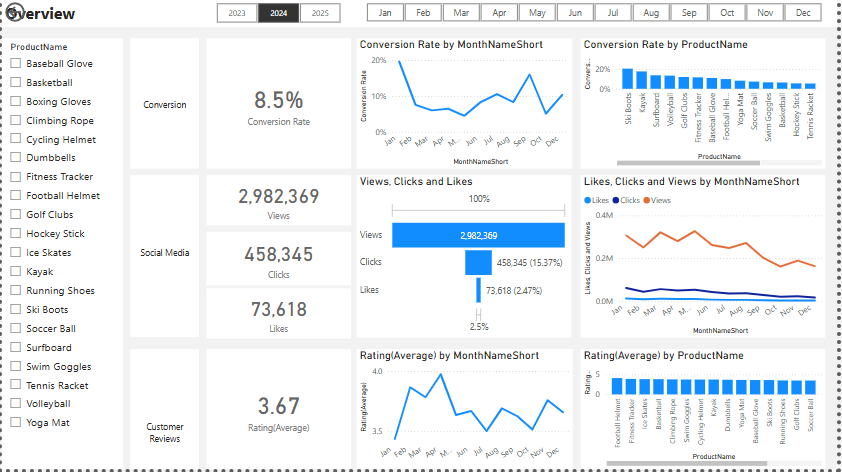

Layout of this report page (visuals, bound fields, positions):
{"tool":"powerbi","page":{"name":"OverView","canvas":[1280,720],"ordinal":0},"visuals":[{"type":"textbox","box":[0,0,1280.4,42.9],"z":0},{"type":"slicer","fields":{"Values":["dim_products.ProductName"]},"box":[0,58.9,185.7,660.7],"z":1000},{"type":"textbox","box":[198.2,58.9,105.4,200],"z":2000},{"type":"textbox","box":[198.2,271.4,105.4,248.2],"z":3000},{"type":"textbox","box":[198.2,535.7,105.4,183.9],"z":4000},{"type":"lineChart","fields":{"Y":["_Calculations.Conversion Rate"],"Category":["Calendar.MonthNameShort"]},"box":[542.9,58.9,330.4,200],"z":5000},{"type":"card","fields":{"Values":["_Calculations.Views"]},"box":[312.5,271.4,221.4,76.8],"z":6000},{"type":"card","fields":{"Values":["_Calculations.Rating(Average)"]},"box":[312.5,535.7,221.4,183.9],"z":7000},{"type":"card","fields":{"Values":["_Calculations.Clicks"]},"box":[312.5,355.4,221.4,82.1],"z":8000},{"type":"card","fields":{"Values":["_Calculations.Likes"]},"box":[312.5,442.9,221.4,76.8],"z":9000},{"type":"slicer","fields":{"Values":["Calendar.Year"]},"box":[303.6,0,239.3,42.9],"z":10000},{"type":"slicer","fields":{"Values":["Calendar.MonthNameShort"]},"box":[533.9,0,746.4,39.3],"z":11000},{"type":"actionButton","box":[0,0,100,40],"z":12000},{"type":"card","fields":{"Values":["_Calculations.Conversion Rate"]},"box":[312.5,58.9,221.4,200],"z":13000},{"type":"clusteredColumnChart","fields":{"Category":["dim_products.ProductName"],"Y":["_Calculations.Conversion Rate"]},"box":[885.7,58.9,375,200],"z":14000},{"type":"lineChart","fields":{"Category":["Calendar.MonthNameShort"],"Y":["_Calculations.Likes","_Calculations.Clicks","_Calculations.Views"]},"box":[885.5,270.9,374.5,249.1],"z":15000},{"type":"funnel","fields":{"Y":["_Calculations.Views","_Calculations.Clicks","_Calculations.Likes"]},"box":[543.6,270.9,329.1,249.1],"z":16000},{"type":"lineChart","fields":{"Category":["Calendar.MonthNameShort"],"Y":["_Calculations.Rating(Average)"]},"box":[541.8,536.4,330.9,200],"z":17000},{"type":"clusteredColumnChart","fields":{"Category":["dim_products.ProductName"],"Y":["_Calculations.Rating(Average)"]},"box":[885.5,536.4,374.5,183.6],"z":18000}]}

Visuals, with their boxes on the page's 1280x720 design canvas (x1, y1, x2, y2). These are canvas units, not pixel positions in the 842x472 screenshot, which may show the page scaled, cropped or inside an application window:
textbox: 0 0 1280 43
slicer - dim_products.ProductName: 0 59 186 720
textbox: 198 59 304 259
textbox: 198 271 304 520
textbox: 198 536 304 720
lineChart - _Calculations.Conversion Rate x Calendar.MonthNameShort: 543 59 873 259
card - _Calculations.Views: 312 271 534 348
card - _Calculations.Rating(Average): 312 536 534 720
card - _Calculations.Clicks: 312 355 534 438
card - _Calculations.Likes: 312 443 534 520
slicer - Calendar.Year: 304 0 543 43
slicer - Calendar.MonthNameShort: 534 0 1280 39
actionButton: 0 0 100 40
card - _Calculations.Conversion Rate: 312 59 534 259
clusteredColumnChart - dim_products.ProductName x _Calculations.Conversion Rate: 886 59 1261 259
lineChart - Calendar.MonthNameShort x _Calculations.Likes: 886 271 1260 520
funnel - _Calculations.Views x _Calculations.Clicks: 544 271 873 520
lineChart - Calendar.MonthNameShort x _Calculations.Rating(Average): 542 536 873 736
clusteredColumnChart - dim_products.ProductName x _Calculations.Rating(Average): 886 536 1260 720
